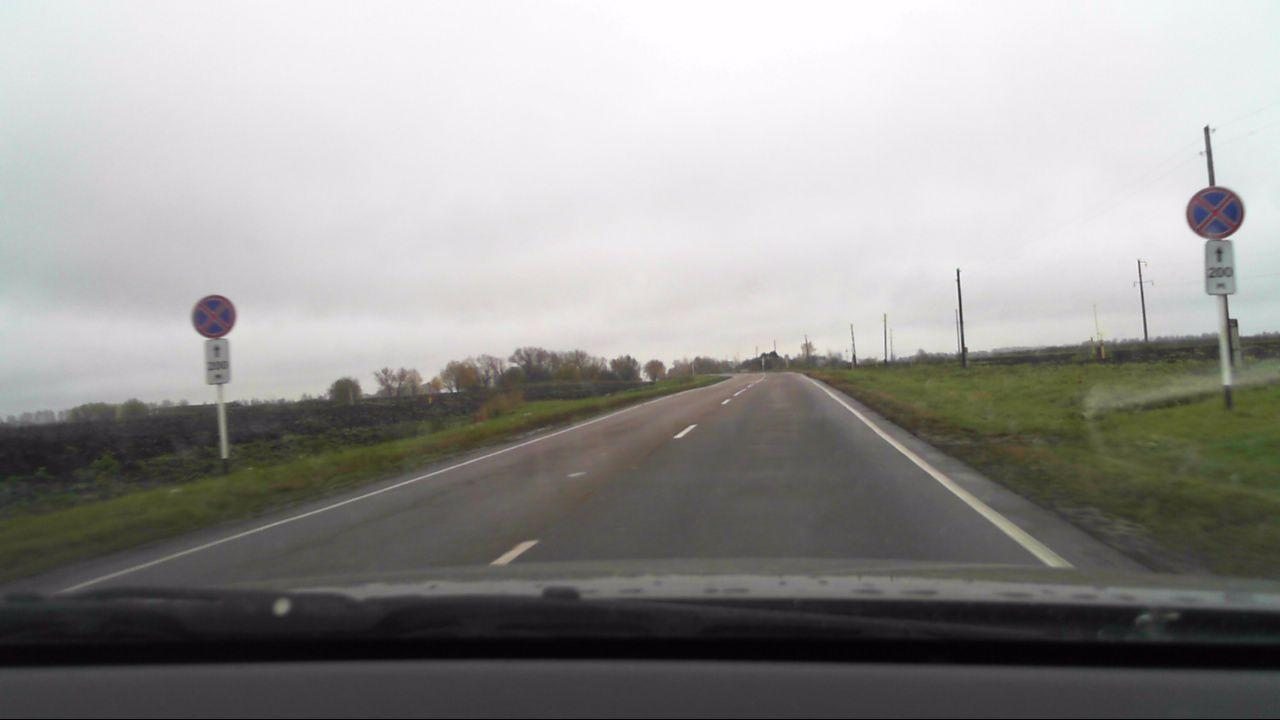3_27: (1180, 183, 1246, 236), (189, 294, 239, 340)
8_2_2: (1206, 243, 1239, 300), (204, 338, 230, 386)
